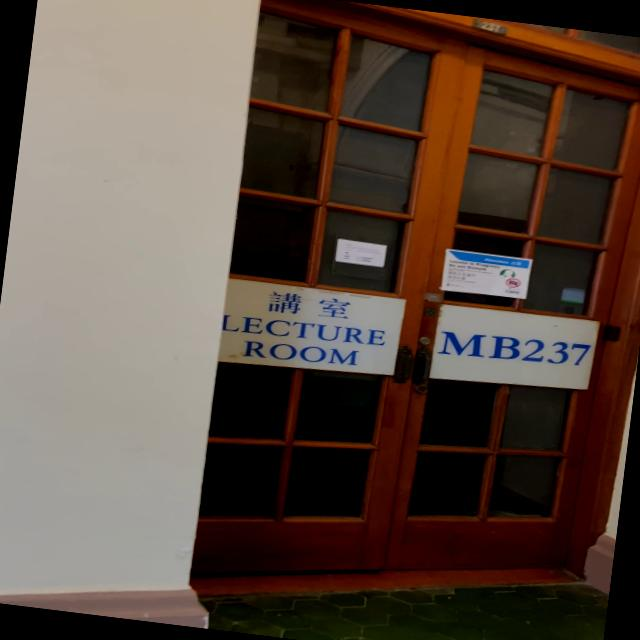room237: (470, 18, 512, 38)
room237Window: (438, 322, 594, 374)
